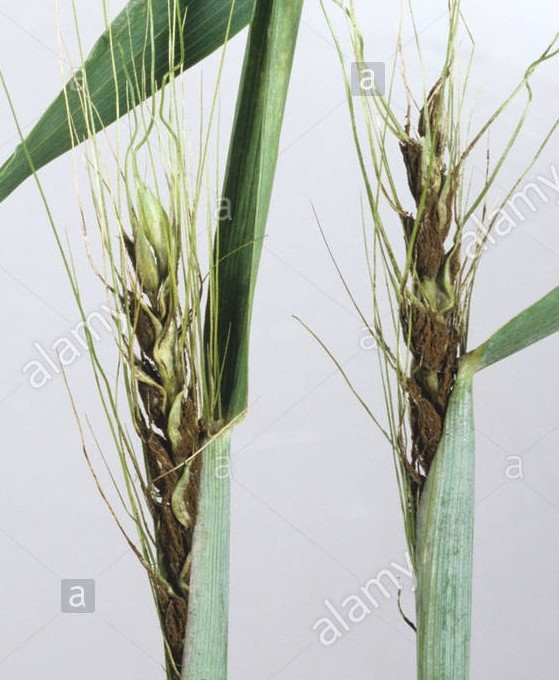Wheat Loose Smut: (81, 185, 216, 615), (357, 99, 475, 510)
